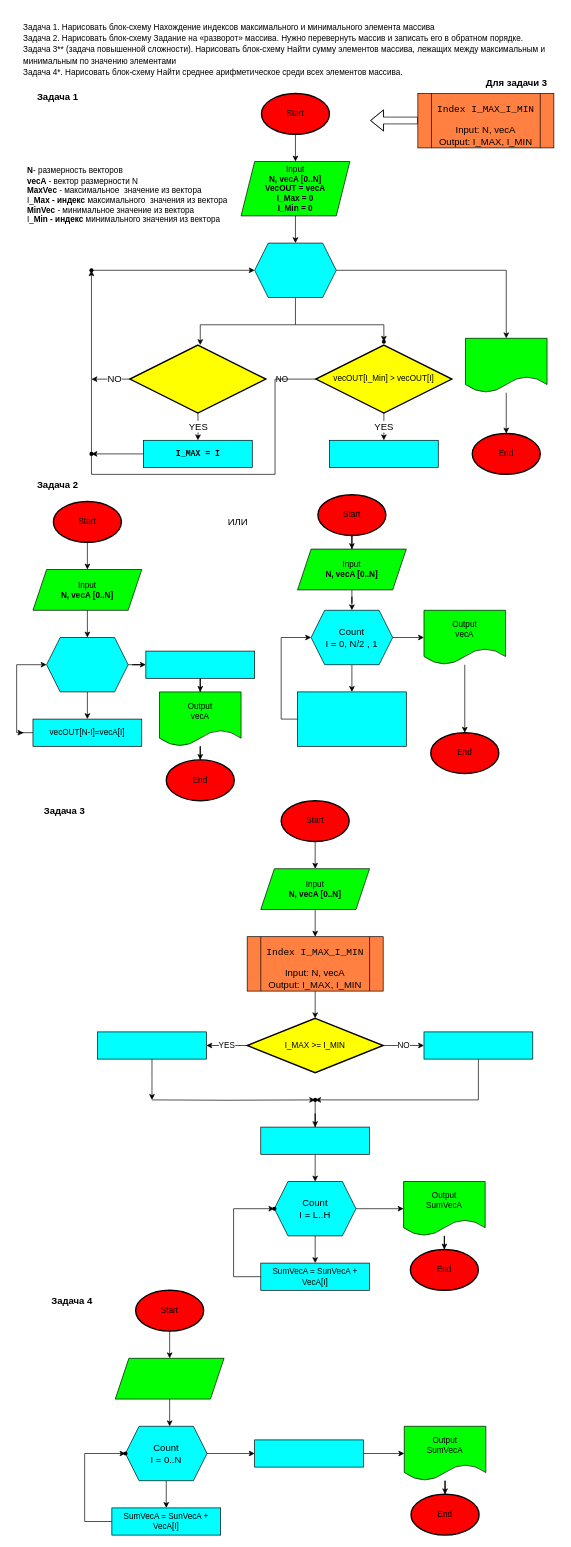
This 571x1547 diagram has some shape labels left out. The shapes that lost their labels are listed below. From the top down, each one's centre as x and y in pixels, then its label:
At [295,270]: "Count I = 1, N, 1".
At [197,378]: "vecOUT[I_MAX] < vecOUT [I]".
At [506,365]: "Output I_MAX I_MIN".
At [383,454]: "I_MIN = I".
At [87,664]: "Count I = 0, N, 1".
At [200,664]: "vecA=vecOUT".
At [351,718]: "tmp = vecA[I] vecA[I] = vecA[N - I] vecA[N-I] = tmp".
At [151,1045]: "L = I_MIN H = I_MAX".
At [478,1045]: "L = I_MAX H = I_MIN".
At [315,1140]: "SumVecA = 0".
At [169,1378]: "Input N, vecA [0..N] SumVecA = 0".
At [308,1453]: "SumVecA = SunVecA/N".
